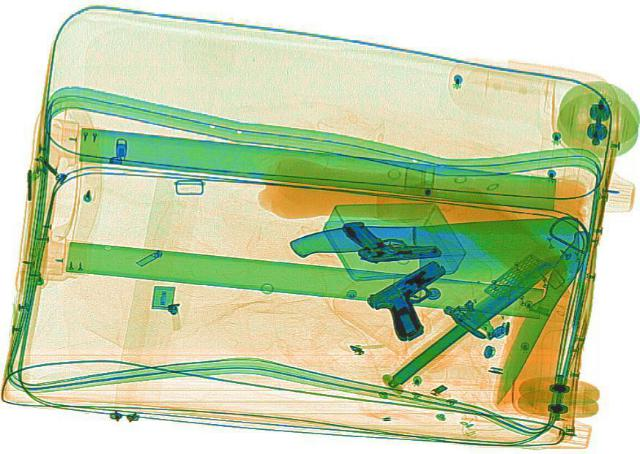Gun: (352, 257, 486, 342), (340, 213, 440, 263)
Knife: (378, 244, 570, 389), (286, 215, 584, 289), (482, 230, 594, 403)
